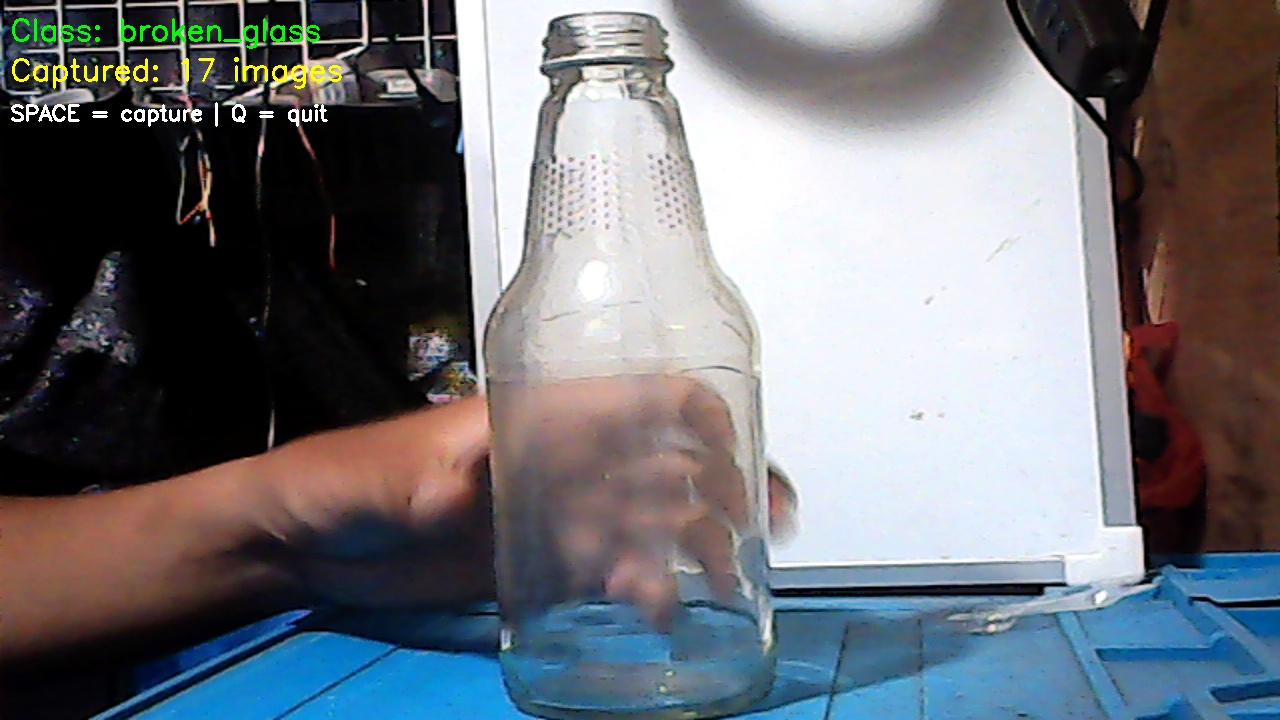broken_glass: (492, 22, 782, 720)
